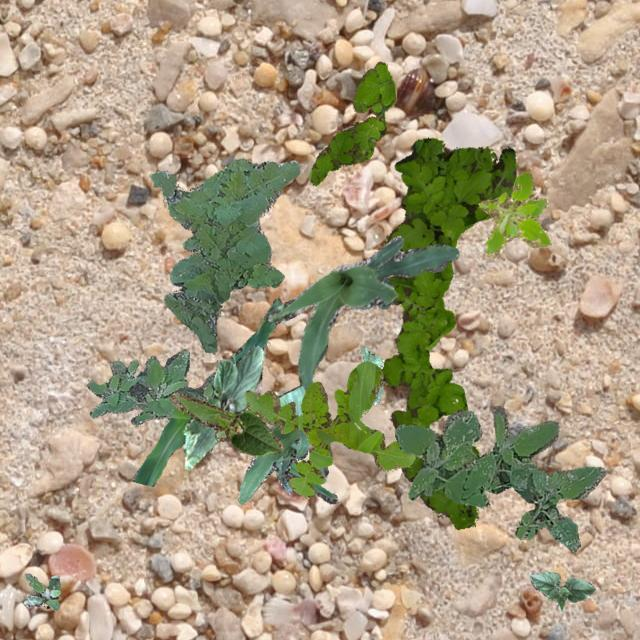crop: (266, 234, 457, 480), (130, 298, 336, 502), (182, 344, 262, 468), (236, 384, 308, 502), (168, 392, 282, 454), (528, 570, 594, 610), (360, 346, 382, 404)
weed: (380, 136, 516, 528), (393, 404, 604, 550), (150, 158, 298, 352), (244, 360, 414, 498), (308, 60, 394, 184), (86, 348, 215, 422), (478, 170, 550, 256), (22, 572, 59, 610)
